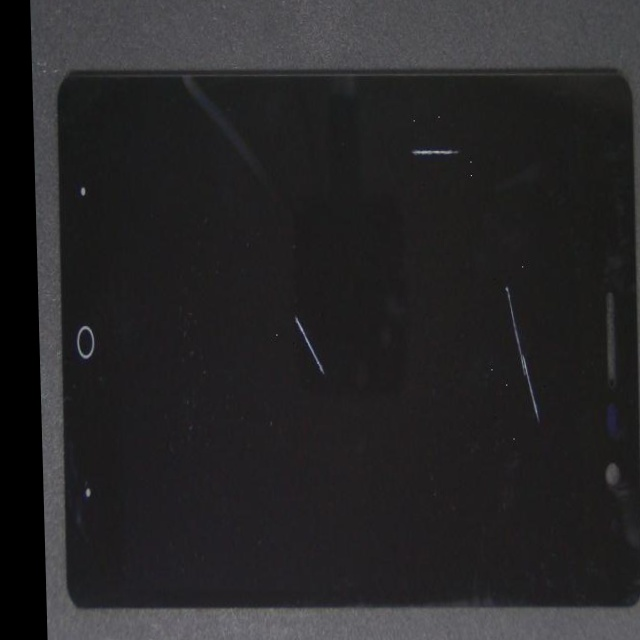scratch: (282, 209, 640, 640), (189, 41, 616, 258), (177, 134, 421, 464)
